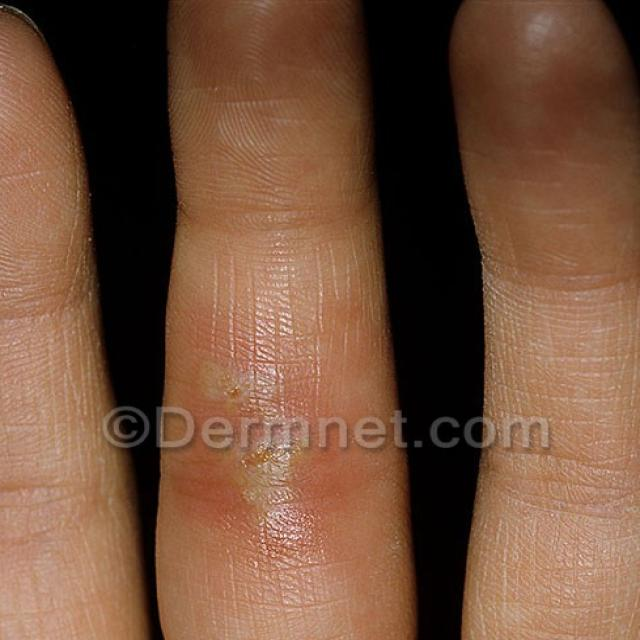Viral Infections: (169, 289, 398, 591)
